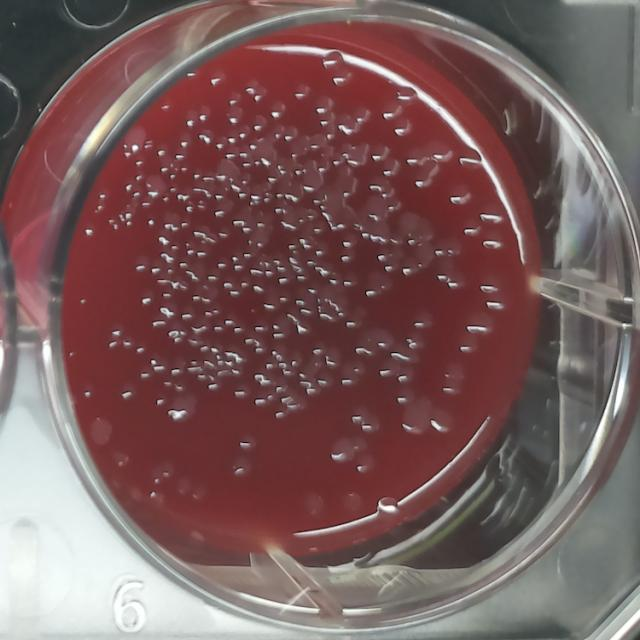Vibrio: (399, 397, 434, 438), (166, 390, 198, 426), (86, 416, 118, 450), (463, 307, 497, 338), (428, 406, 458, 437), (300, 488, 327, 521), (328, 435, 357, 465), (448, 180, 476, 208), (230, 454, 257, 482), (478, 200, 505, 228), (393, 82, 420, 110), (375, 493, 401, 522), (375, 356, 401, 382), (213, 157, 237, 183), (355, 453, 379, 479), (321, 48, 344, 73), (332, 66, 355, 90), (350, 409, 373, 432), (237, 432, 259, 455), (130, 252, 152, 275), (260, 290, 281, 314), (118, 380, 139, 403), (313, 94, 334, 115), (395, 363, 415, 385), (362, 416, 382, 438), (293, 81, 313, 102), (296, 318, 314, 338), (139, 288, 157, 308), (319, 110, 335, 128)
